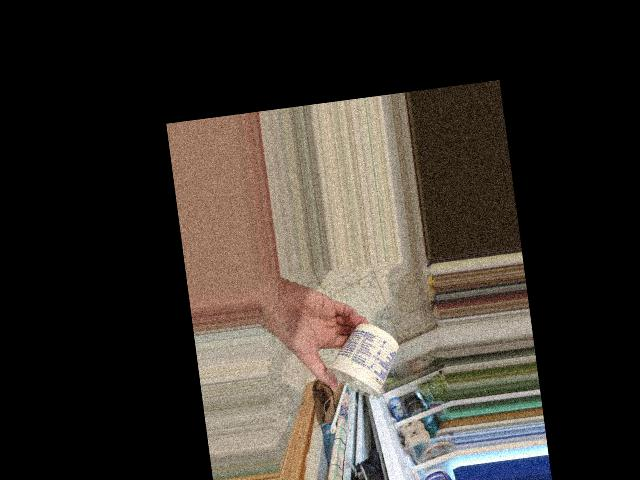cotage: (323, 317, 406, 407)
